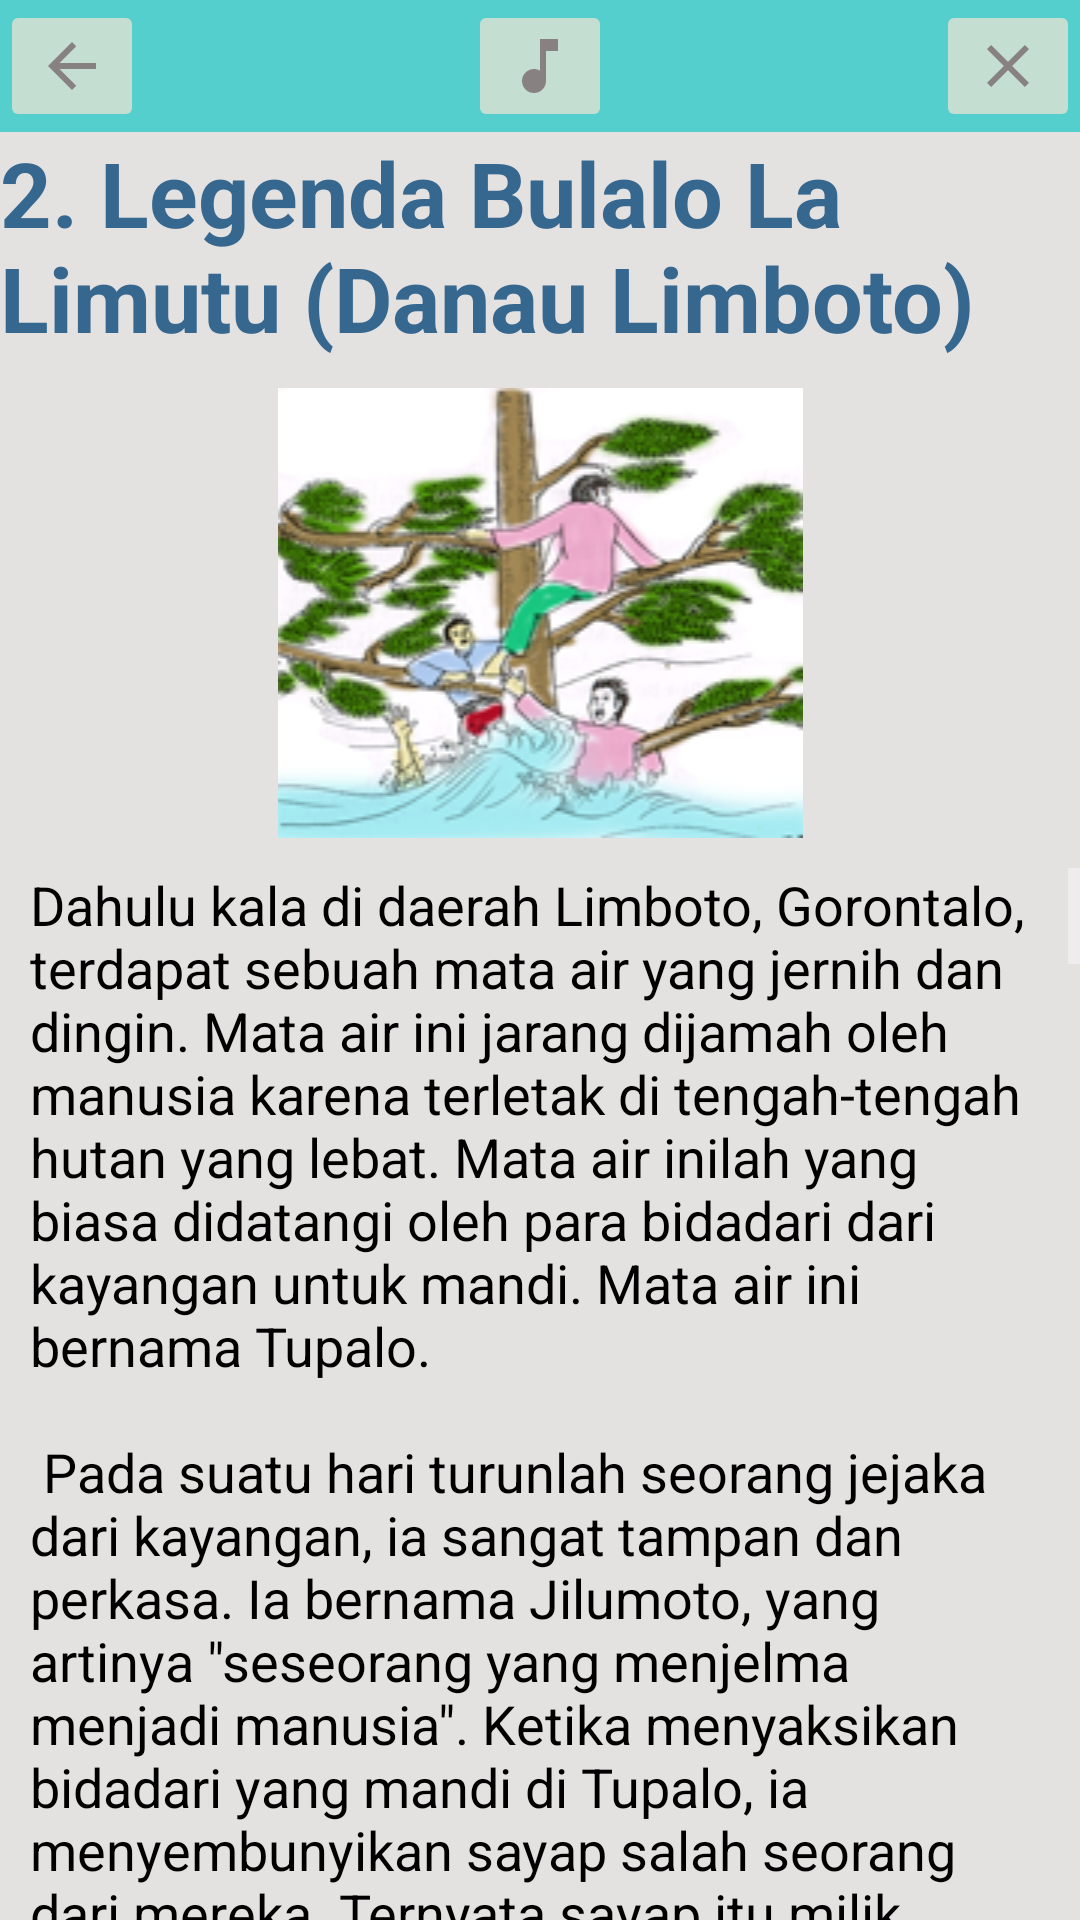

Screen size 1080px x 1920px. Icon name, then its box in pixels as (x1, y1, x2, y2):
arrow back: (12, 18, 132, 114)
close: (948, 18, 1068, 114)
music note: (480, 18, 600, 114)
